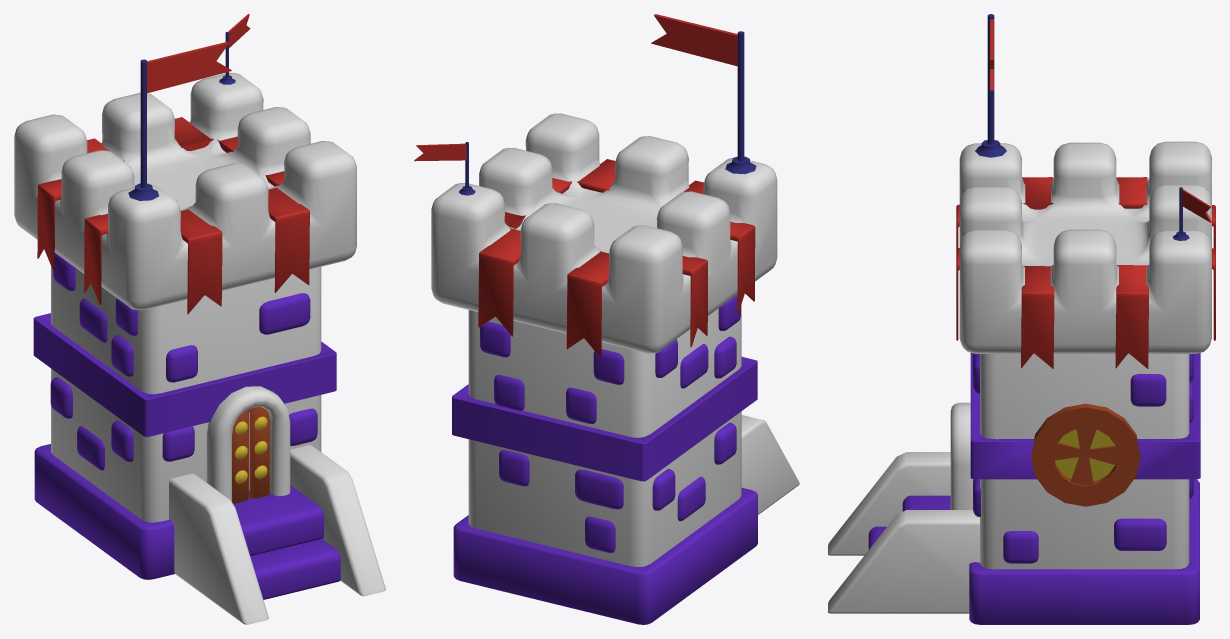
Rendered from Tower_3_.fbx.
3 views of the same model, side by side, from view 1: azimuth 30°, elevation 25°; view 2: azimuth 150°, elevation 25°; view 3: azimuth 270°, elevation 25° (orthographic).
Visible parts, largest first — view 1: Tower 3.003; view 2: Tower 3.003; view 3: Tower 3.003.
Boxes of the visible parts, <box> form: Tower 3.003: <box>14,14,385,624</box>; Tower 3.003: <box>414,14,799,624</box>; Tower 3.003: <box>828,14,1215,624</box>.
Bounding box in the file's own units: 804 × 1610 × 1090.
